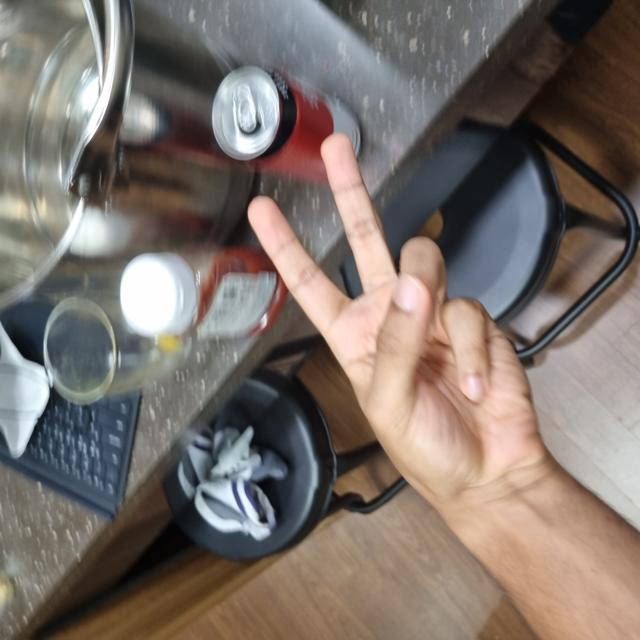Scissors: (138, 248, 507, 541)
